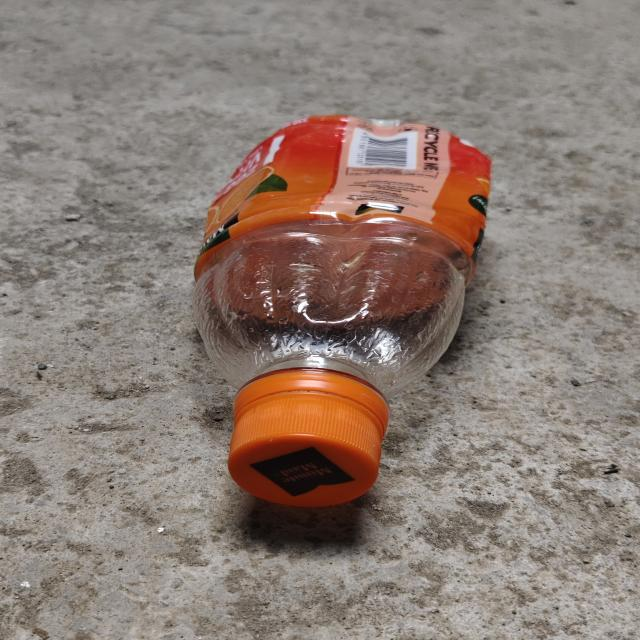Bottle: (194, 115, 491, 507)
